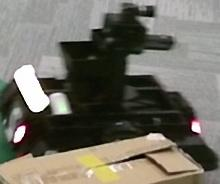light: (13, 64, 49, 114)
